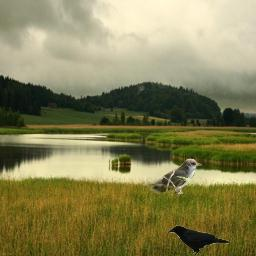Crow: (166, 224, 229, 255)
Cuckoo: (143, 158, 202, 194)
